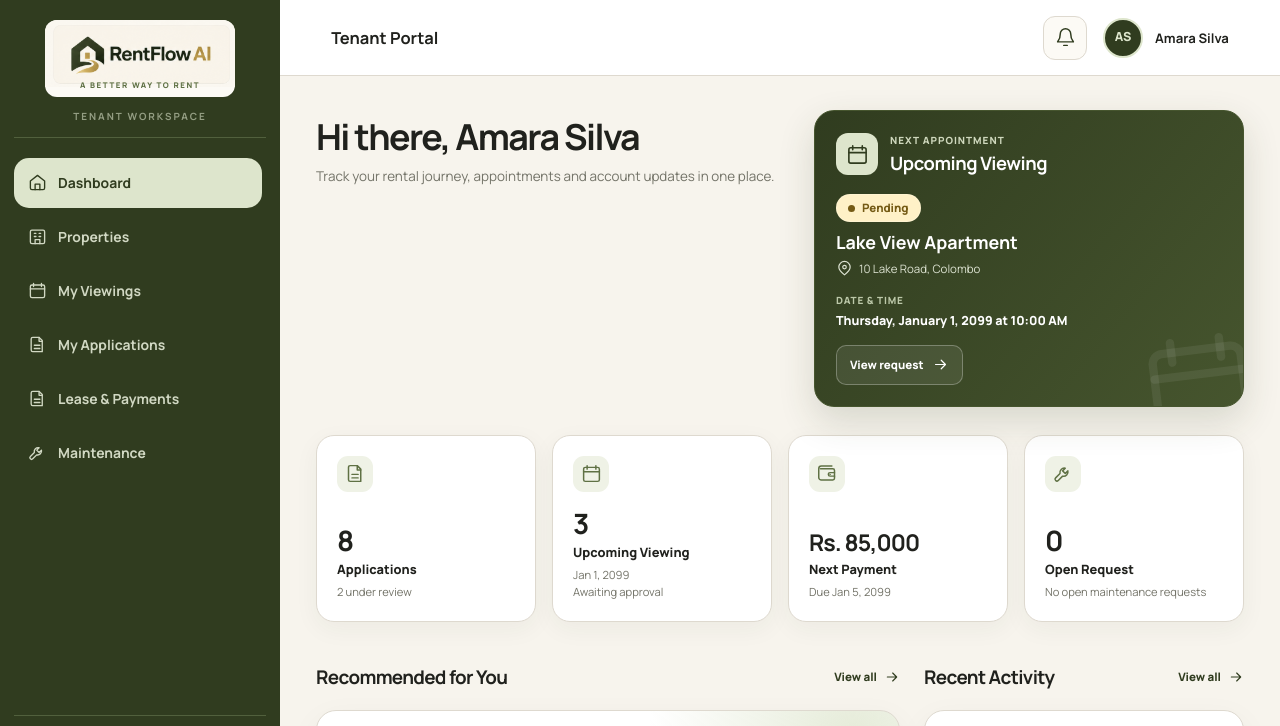
Scenario: tenant dashboard › keeps recommendation, property discovery, and maintenance destinations honest
Expected: the element "Open Request" shows "No open maintenance requests", [1045,584,1206,599]
Click the link "Maintenance".
click(87, 453)  # box [28,443,146,462]
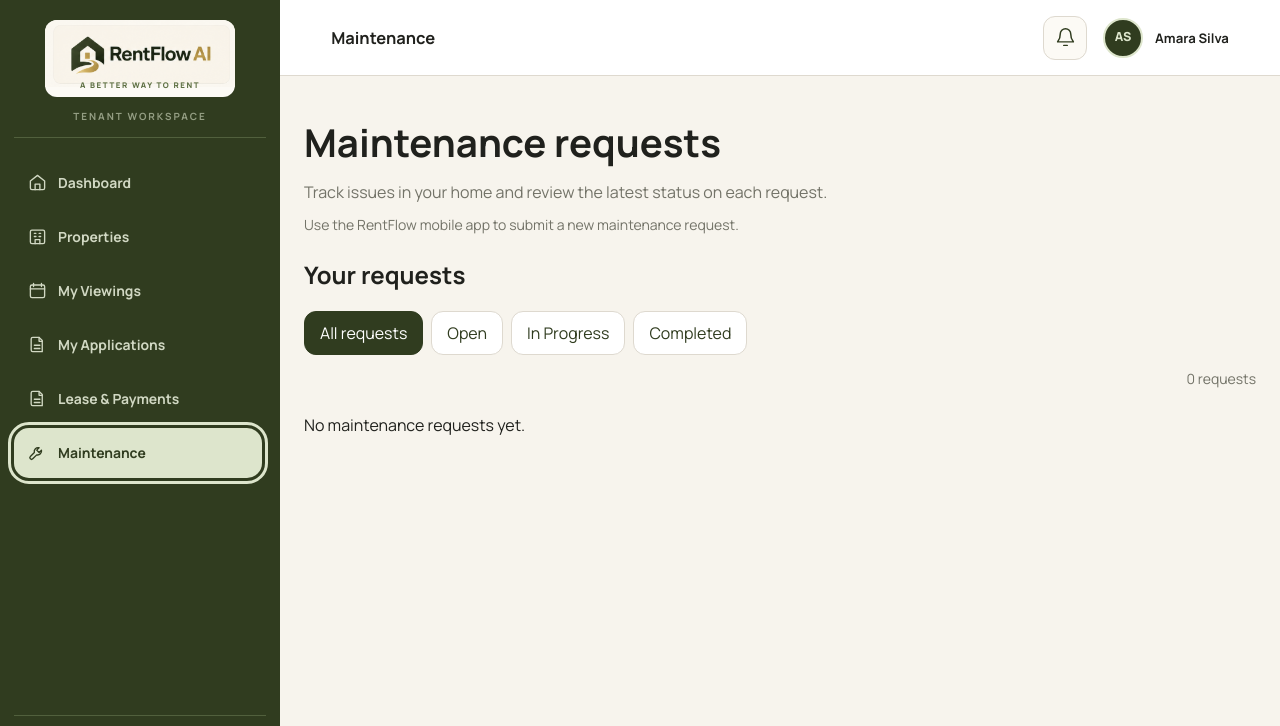
Result: the heading "Maintenance requests" is shown at [304,116,721,169]
